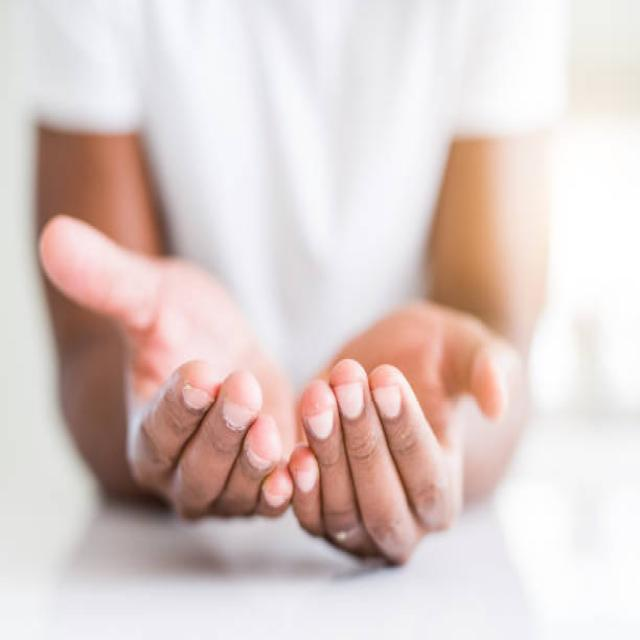Nail: (222, 398, 258, 433), (335, 382, 364, 420), (372, 386, 401, 420), (181, 384, 214, 413), (304, 411, 334, 441), (244, 439, 271, 472), (292, 471, 318, 493), (261, 486, 286, 508)
